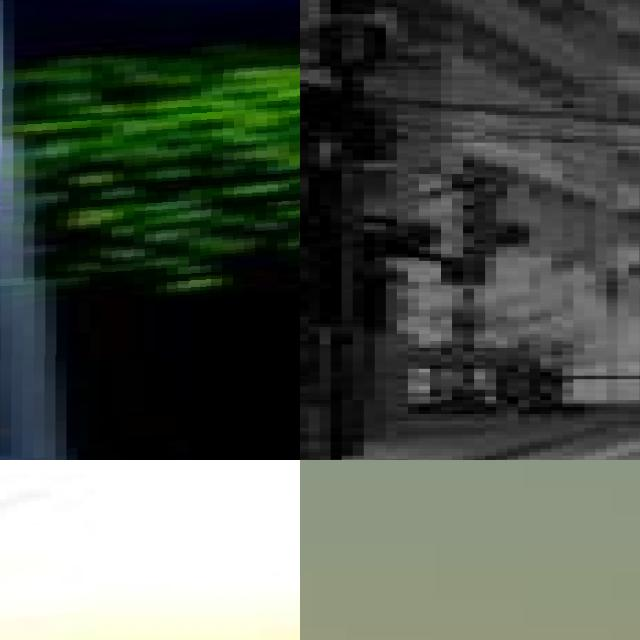street light: (0, 0, 300, 460), (0, 473, 94, 640), (139, 564, 210, 640)
